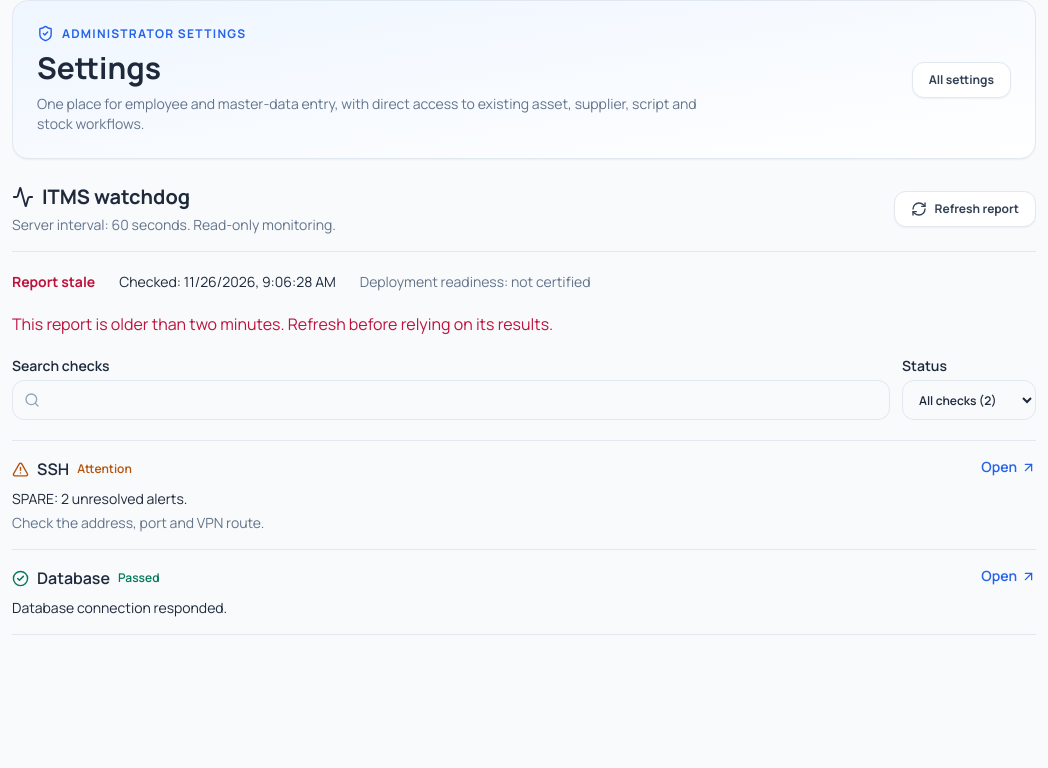
Test case: Settings watchdog › marks stale reports and rejects malformed or unsafe links
Expected: the text "Report stale" is shown, [12, 272, 95, 292]
Click the button "Refresh report": {"x": 965, "y": 209} [894, 191, 1036, 227]
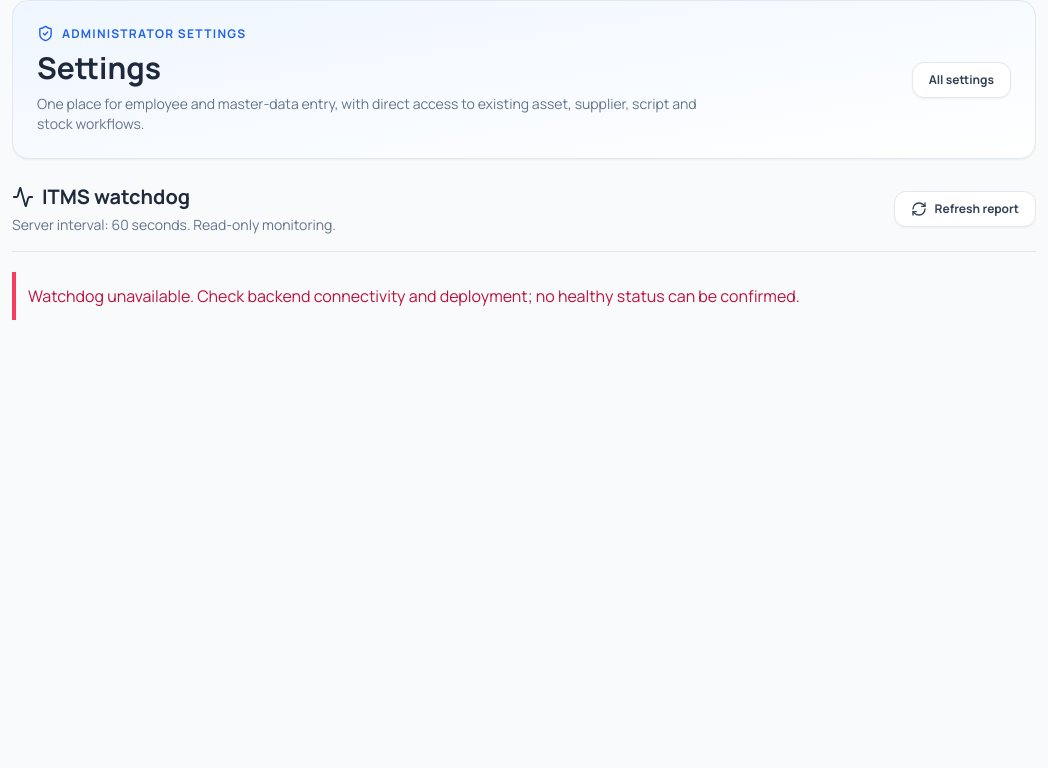
Now the text "Watchdog unavailable" is shown, box [28, 285, 800, 307]
Now the list "Open Database" is gone
